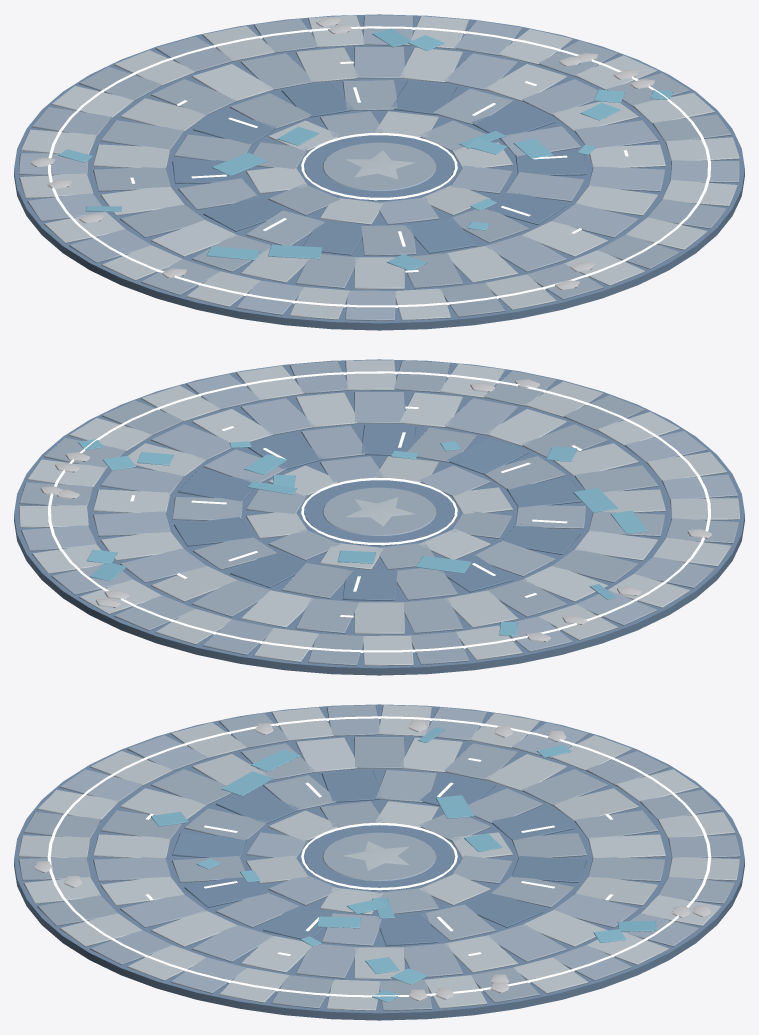
File: mt_floor_3.glb
The picture shows the model from 3 angles, top to bottom: view 1: azimuth 30°, elevation 25°; view 2: azimuth 150°, elevation 25°; view 3: azimuth 270°, elevation 25°; orthographic projection.
Visible parts, largest first — view 1: body, rune_glow; view 2: body, rune_glow; view 3: body, rune_glow.
Boxes of the visible parts, x1,y1,x2,y2 form: body: [14, 14, 744, 330]; rune_glow: [48, 26, 710, 307]; body: [14, 359, 744, 675]; rune_glow: [48, 371, 710, 652]; body: [14, 704, 744, 1020]; rune_glow: [47, 716, 711, 997].
Bounding box in the file's own units: 33.2 × 0.59 × 33.2.
